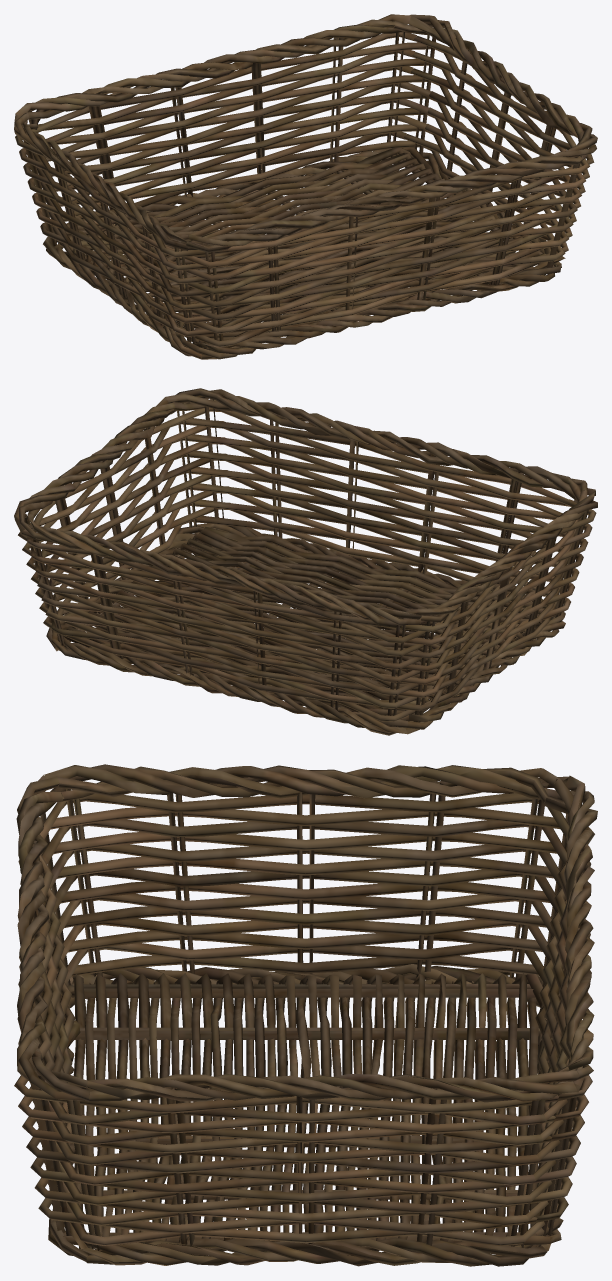
File: wicker_basket_01.glb
3 renders of one model, top to bottom at view 1: azimuth 30°, elevation 25°; view 2: azimuth 150°, elevation 25°; view 3: azimuth 270°, elevation 25°, orthographic. The views are drawn at different scales.
Visible parts, largest first — view 1: wicker_basket_01; view 2: wicker_basket_01; view 3: wicker_basket_01.
Boxes of the visible parts, bbox=[...] form: wicker_basket_01: bbox=[14, 14, 597, 359]; wicker_basket_01: bbox=[14, 388, 597, 735]; wicker_basket_01: bbox=[14, 764, 597, 1266].
Bounding box in the file's own units: 0.0613 × 0.0189 × 0.0472.
Materials: 1 (1 with a texture image).
